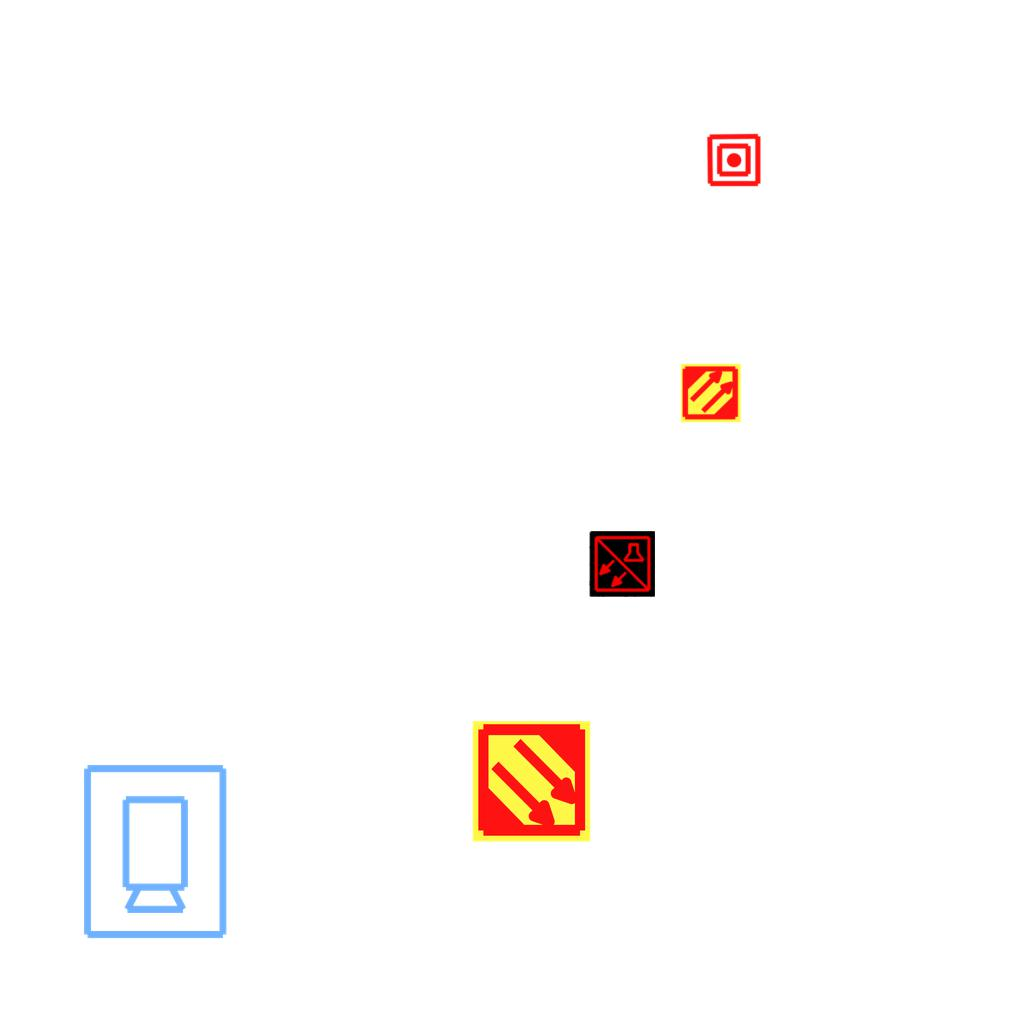ASR_Ansaugrauchmelder: (469, 719, 594, 844), (680, 362, 742, 424)
KFO_Kamera_mit_Festobjektiv: (77, 760, 231, 942)
NAM-Nichtautomatischer_Melder: (706, 132, 762, 188)
OKW_Multisensormelder_(Kombination_optischer_Rauch-Kahlenmonoxid_Waerme-Melder): (589, 531, 655, 597)
